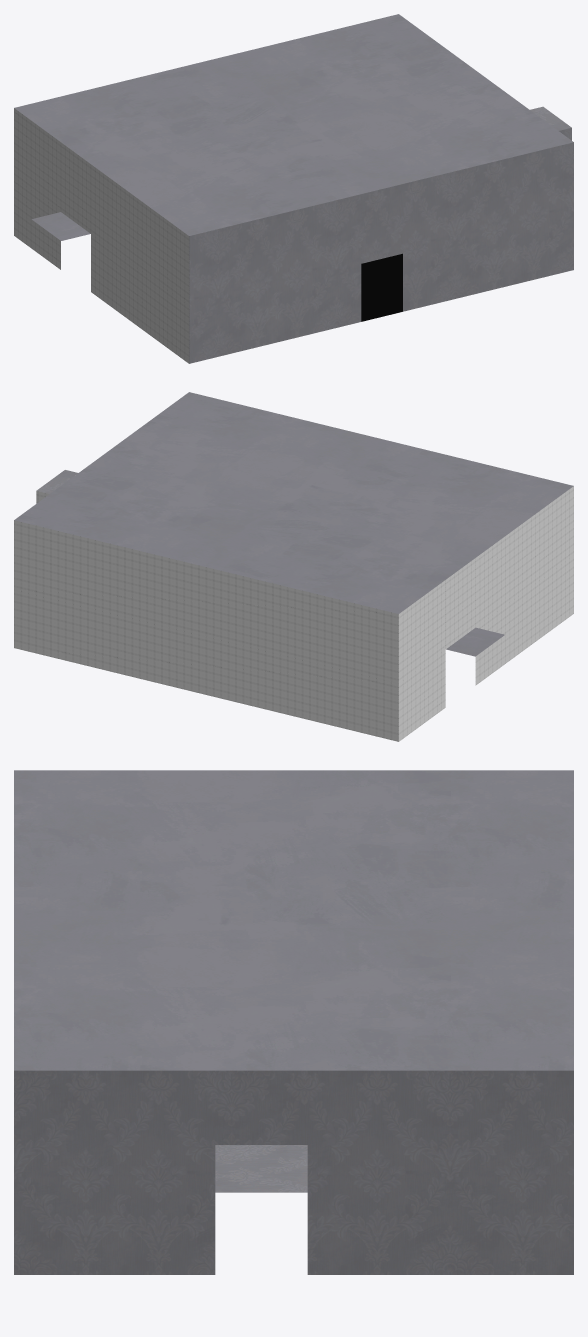
The model's file is Right.fbx.
3 renders of one model, top to bottom at view 1: azimuth 30°, elevation 25°; view 2: azimuth 150°, elevation 25°; view 3: azimuth 270°, elevation 25°, orthographic. The views are drawn at different scales.
Parts seen in each view (by area): view 1: Right; view 2: Right; view 3: Right.
Part boxes in pixels (box(x1,y1,x2,y2)): Right: box(14, 14, 573, 363); Right: box(14, 392, 573, 741); Right: box(14, 770, 573, 1274).
Bounding box in the file's own units: 64.25 × 16.5 × 41.
